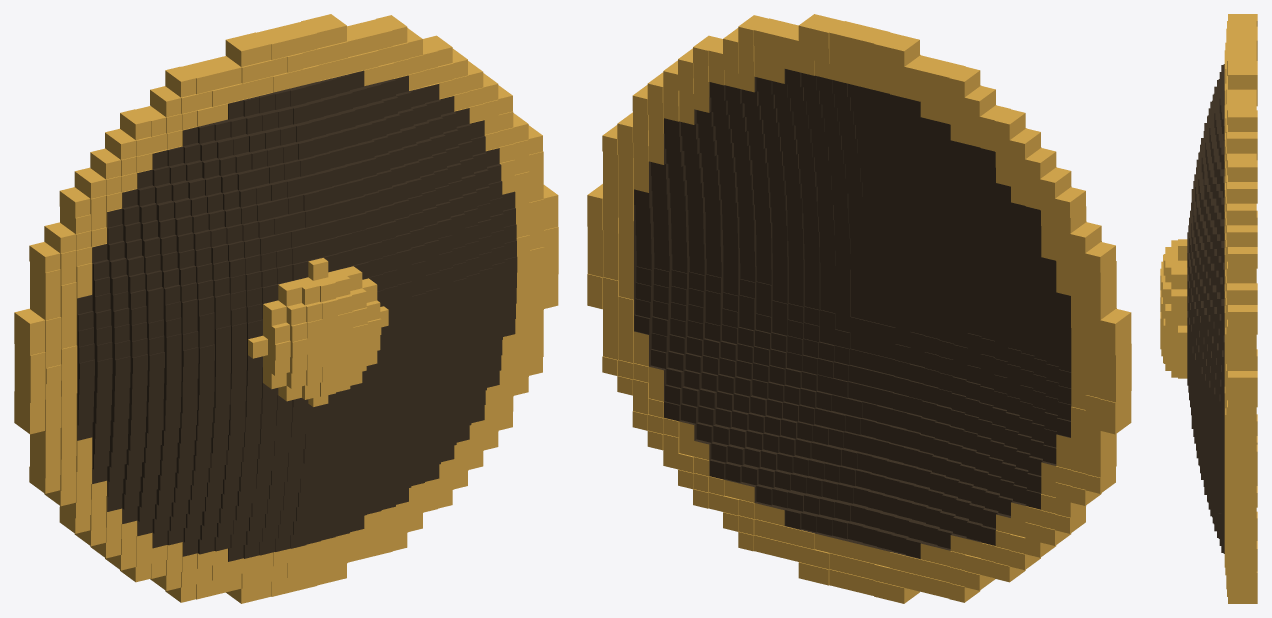
File: Shield.fbx
3 renders of one model, left to right at view 1: azimuth 30°, elevation 25°; view 2: azimuth 150°, elevation 25°; view 3: azimuth 270°, elevation 25°, orthographic. The views are drawn at different scales.
Visible parts, largest first — view 1: ShieldFront, ShieldBorder, ShieldDetail; view 2: ShieldBack, ShieldBorder; view 3: ShieldBorder, ShieldFront, ShieldDetail.
Boxes of the visible parts, x1,y1,x2,y2 form: ShieldFront: (77,70,517,561); ShieldBorder: (14,14,558,603); ShieldDetail: (248,258,388,406); ShieldBack: (634,69,1071,559); ShieldBorder: (587,14,1131,603); ShieldBorder: (1224,14,1257,603); ShieldFront: (1187,64,1224,553); ShieldDetail: (1160,239,1187,378).
Bounding box in the file's own units: 0.3957 × 0.0675 × 0.3957.
